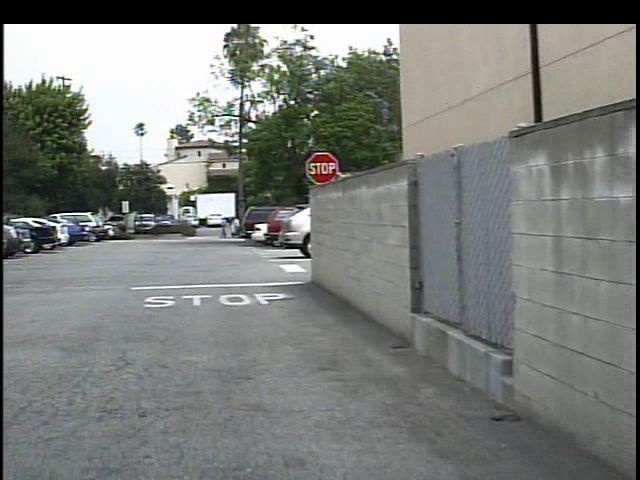person: (210, 215, 224, 242), (221, 216, 235, 241)
